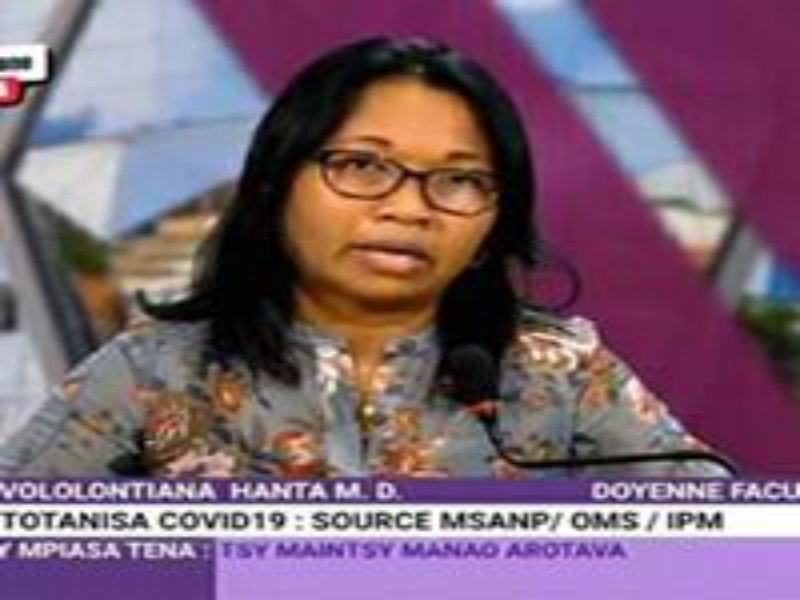TsisyArotava: (286, 41, 512, 337)
